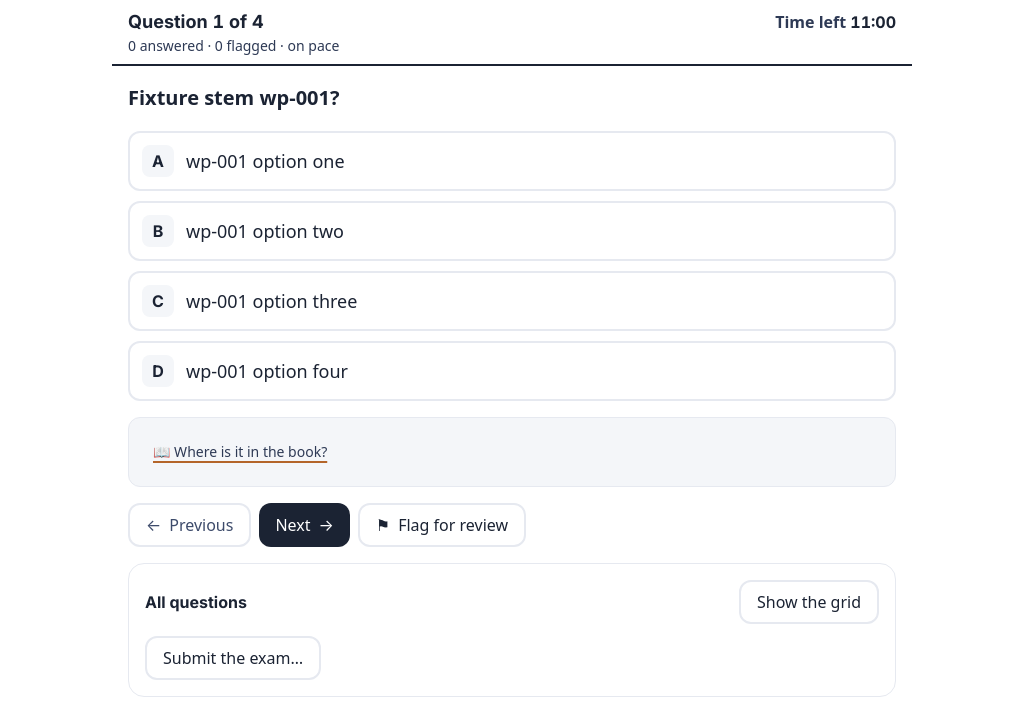
exam run › offers and records book hints only when the exam was started with them on
Step 1. Click the button "📖 Where is it in the book?" → (240, 452), box x1=141 y1=430 x2=339 y2=474
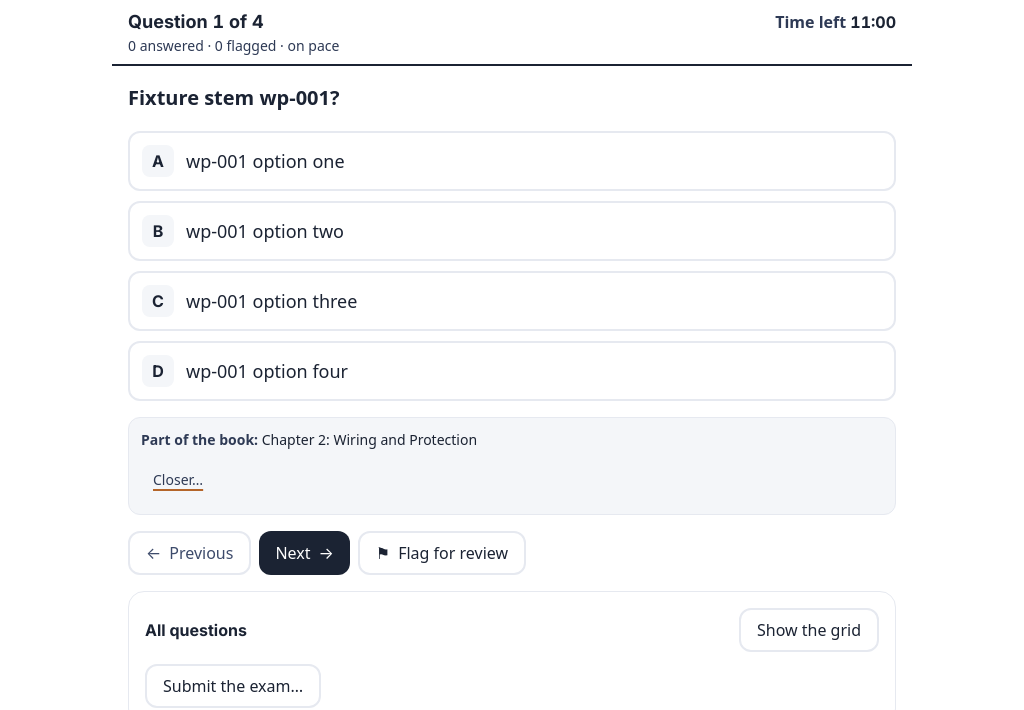
Step 2. Click the button "Closer…" → (178, 480), box x1=141 y1=458 x2=215 y2=502
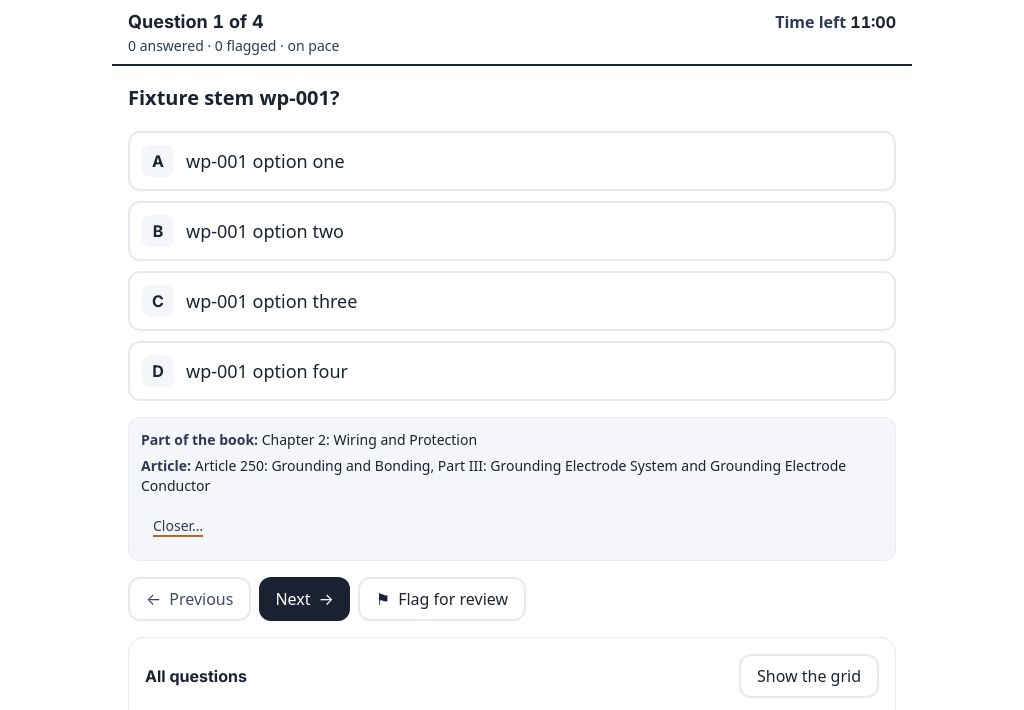
Note: The calculation item has no book hint.
Step 3. Press ArrowRight
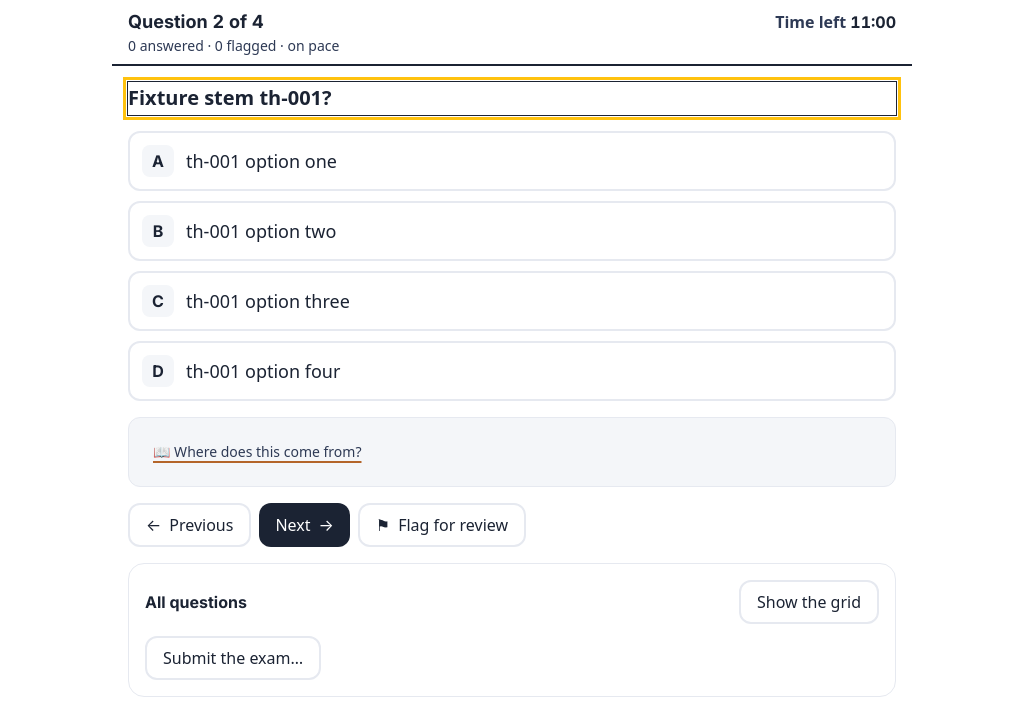
Step 4. Press ArrowRight
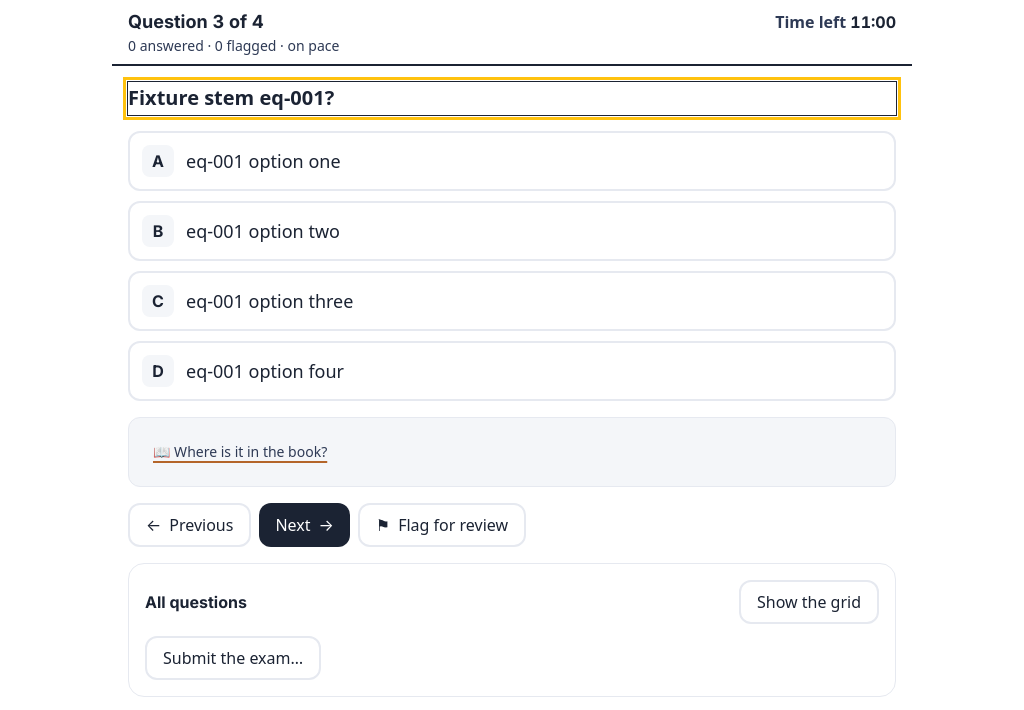
Step 5. Press ArrowRight
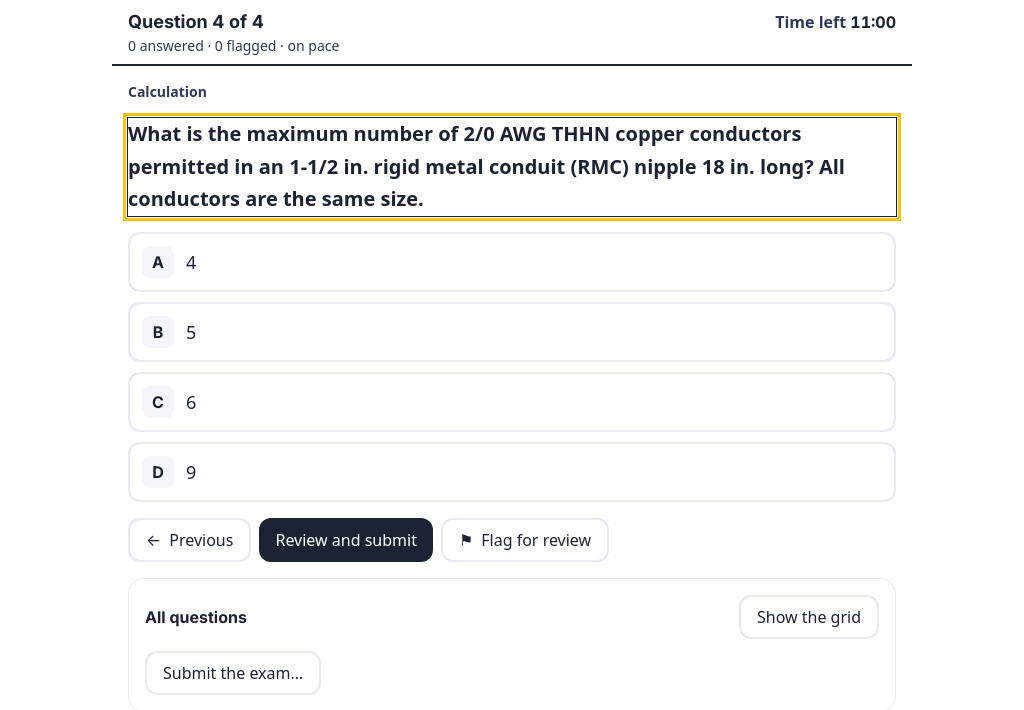
Result: the text "Question 4 of 4" is shown at x1=128 y1=8 x2=264 y2=36
Result: the button "Where is it" is gone
